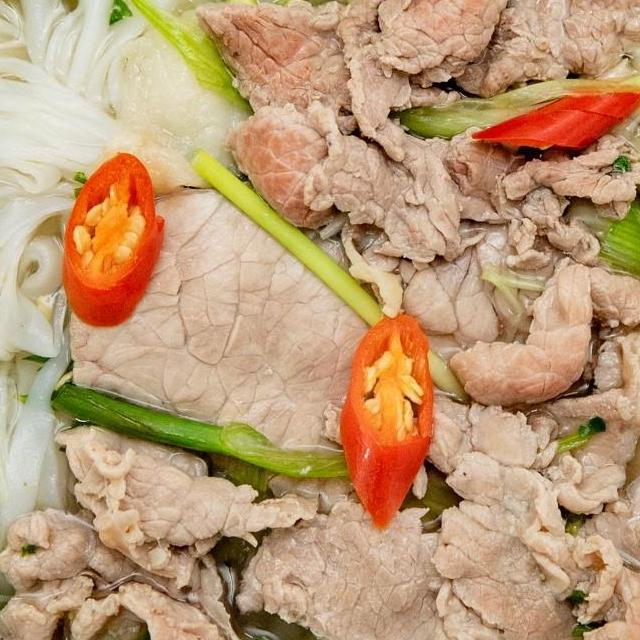banh pho: (0, 0, 369, 227), (0, 147, 91, 593), (0, 384, 83, 627)
pho bo: (0, 0, 640, 640)
thit bo: (39, 165, 421, 594), (185, 0, 640, 272), (402, 246, 640, 640), (234, 441, 525, 640), (313, 0, 640, 174), (45, 420, 316, 573), (0, 521, 344, 640)
